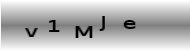1: (46, 19, 61, 33)
J: (99, 14, 108, 33)
M: (73, 24, 94, 39)
e: (123, 19, 137, 30)
v: (24, 26, 38, 38)
